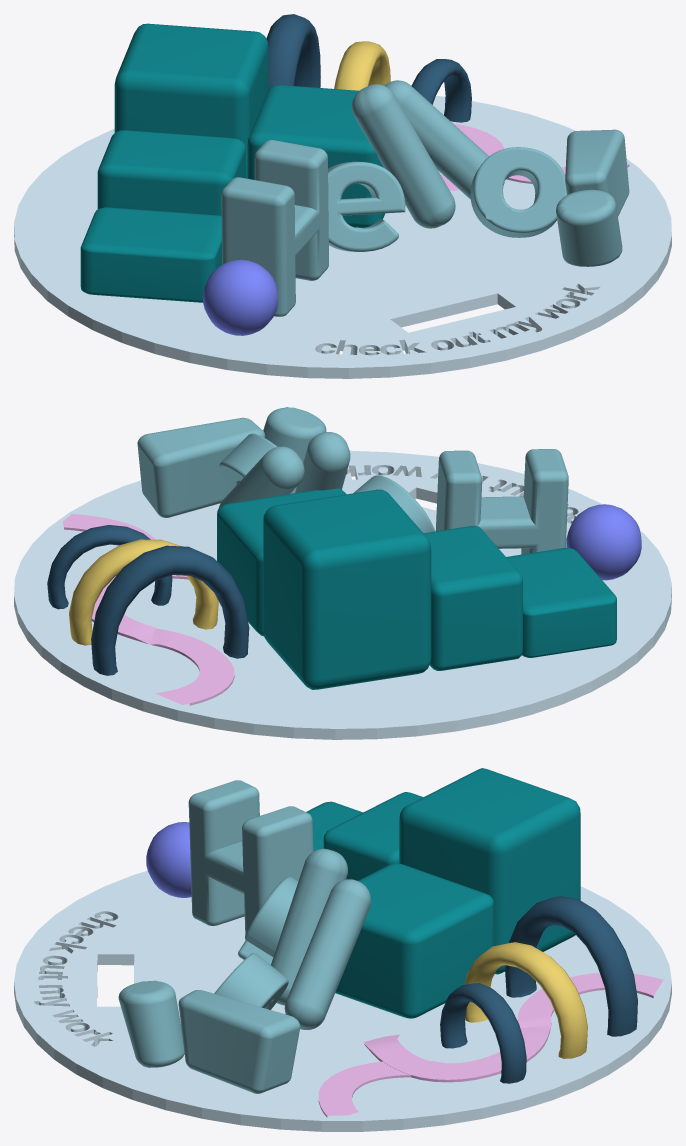
File: hello.gltf
3 renders of one model, top to bottom at view 1: azimuth 30°, elevation 25°; view 2: azimuth 150°, elevation 25°; view 3: azimuth 270°, elevation 25°, orthographic.
Parts seen in each view (by area): view 1: Cylinder & 3D Text 3 - c & 3D Text 3 - h & 3D Text 3 - e & 3, Box - baked 2, H - H - baked, Box - baked, Box - baked 3, ! - ! - baked, Box - baked 1, 3D Text 1 - l - baked 1, 3D Text 2 - o - baked, 3D Text - e - baked, ball - baked, 3D Text 1 - l - baked (+4 smaller); view 2: Cylinder & 3D Text 3 - c & 3D Text 3 - h & 3D Text 3 - e & 3, Box - baked 2, Box - baked 3, ! - ! - baked, H - H - baked, Box - baked, l ring, Box - baked 1, road, m ring, ball - baked, sm ring (+4 smaller); view 3: Cylinder & 3D Text 3 - c & 3D Text 3 - h & 3D Text 3 - e & 3, Box - baked 2, Box - baked 1, ! - ! - baked, H - H - baked, road, l ring, 3D Text 1 - l - baked, m ring, 3D Text 1 - l - baked 1, Box - baked 3, sm ring (+4 smaller).
Boxes of the visible parts, x1,y1,x2,y2 form: Cylinder & 3D Text 3 - c & 3D Text 3 - h & 3D Text 3 - e & 3: (14, 95, 671, 378); Box - baked 2: (114, 23, 268, 178); H - H - baked: (221, 140, 328, 316); Box - baked: (80, 207, 221, 302); Box - baked 3: (97, 130, 245, 215); ! - ! - baked: (556, 129, 629, 266); Box - baked 1: (247, 85, 385, 227); 3D Text 1 - l - baked 1: (352, 84, 455, 228); 3D Text 2 - o - baked: (470, 147, 567, 237); 3D Text - e - baked: (328, 161, 405, 251); ball - baked: (203, 259, 277, 335); 3D Text 1 - l - baked: (384, 80, 504, 199); Cylinder & 3D Text 3 - c & 3D Text 3 - h & 3D Text 3 - e & 3: (14, 450, 671, 739); Box - baked 2: (263, 489, 431, 689); Box - baked 3: (424, 525, 522, 670); ! - ! - baked: (137, 407, 326, 517); H - H - baked: (435, 449, 568, 554); Box - baked: (506, 547, 616, 657); l ring: (91, 545, 249, 675); Box - baked 1: (217, 488, 346, 636); road: (63, 514, 234, 705); m ring: (69, 539, 218, 645); ball - baked: (566, 504, 641, 580); sm ring: (47, 525, 172, 609); Cylinder & 3D Text 3 - c & 3D Text 3 - h & 3D Text 3 - e & 3: (14, 870, 671, 1131); Box - baked 2: (399, 768, 580, 974); Box - baked 1: (335, 863, 493, 1018); ! - ! - baked: (118, 980, 300, 1093); H - H - baked: (188, 780, 313, 939); road: (318, 973, 663, 1117); l ring: (505, 896, 637, 1036); 3D Text 1 - l - baked: (284, 879, 371, 1029); m ring: (464, 942, 587, 1058); 3D Text 1 - l - baked 1: (271, 848, 347, 1005); Box - baked 3: (323, 792, 422, 880); sm ring: (440, 983, 526, 1083).
Bounding box in the file's own units: 0.0444 × 0.0115 × 0.0445.
